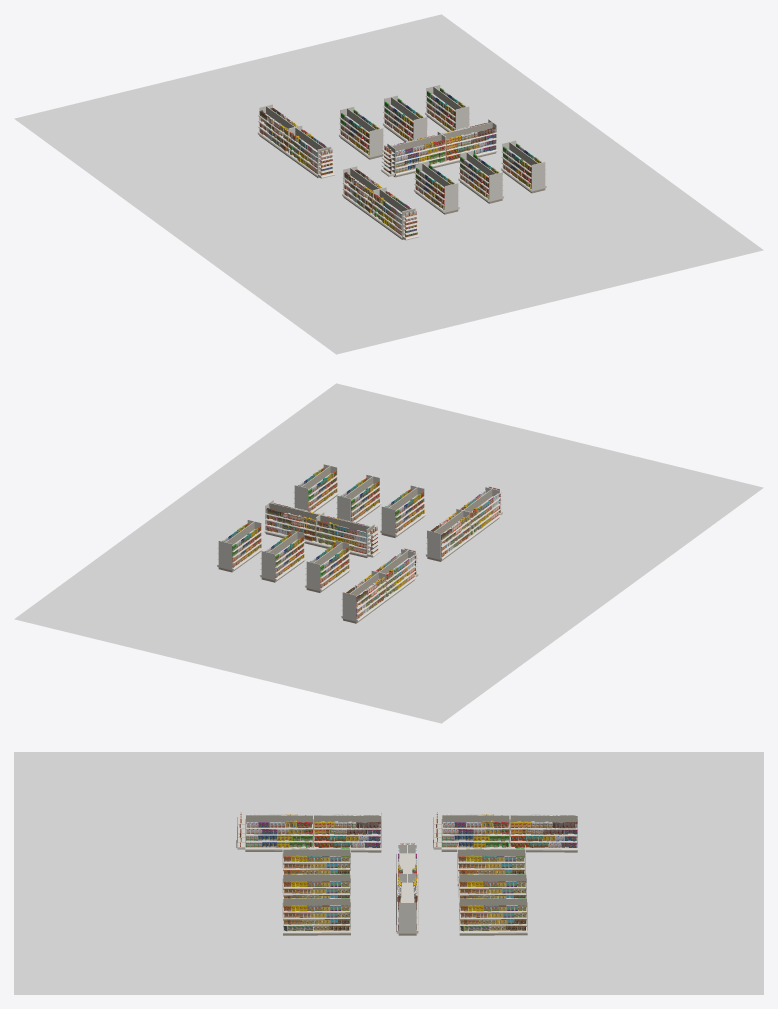
File: aisles.glb
3 renders of one model, top to bottom at view 1: azimuth 30°, elevation 25°; view 2: azimuth 150°, elevation 25°; view 3: azimuth 270°, elevation 25°, orthographic. The views are drawn at different scales.
Visible parts, largest first — view 1: floor, aisle_4, aisle_8, aisle_9, aisle_3, aisle_1, aisle_7, aisle_2, aisle_5, aisle_6; view 2: floor, aisle_4, aisle_9, aisle_8, aisle_6, aisle_5, aisle_7, aisle_3, aisle_1, aisle_2; view 3: floor, aisle_9, aisle_8, aisle_5, aisle_1, aisle_4, aisle_7, aisle_3, aisle_6, aisle_2.
Boxes of the visible parts, <box> form: floor: <box>14,14,763,354</box>; aisle_4: <box>381,119,497,177</box>; aisle_8: <box>342,166,419,240</box>; aisle_9: <box>257,104,334,178</box>; aisle_3: <box>413,161,459,214</box>; aisle_1: <box>501,140,546,193</box>; aisle_7: <box>338,106,383,159</box>; aisle_2: <box>458,150,504,203</box>; aisle_5: <box>425,85,470,131</box>; aisle_6: <box>383,95,427,141</box>; floor: <box>14,383,763,723</box>; aisle_4: <box>264,500,380,557</box>; aisle_9: <box>341,548,418,623</box>; aisle_8: <box>426,486,502,561</box>; aisle_6: <box>260,530,305,582</box>; aisle_5: <box>217,520,262,572</box>; aisle_7: <box>305,540,350,592</box>; aisle_3: <box>380,485,425,537</box>; aisle_1: <box>294,464,338,512</box>; aisle_2: <box>336,474,381,522</box>; floor: <box>14,752,763,994</box>; aisle_9: <box>433,811,577,852</box>; aisle_8: <box>236,811,381,852</box>; aisle_5: <box>459,894,527,935</box>; aisle_1: <box>282,894,350,935</box>; aisle_4: <box>396,843,418,935</box>; aisle_7: <box>457,845,525,886</box>; aisle_3: <box>282,845,350,874</box>; aisle_6: <box>458,870,526,911</box>; aisle_2: <box>282,870,350,898</box>.
Bounding box in the file's own units: 39.62 × 2.64 × 51.73.
9 materials, 7 textured.
